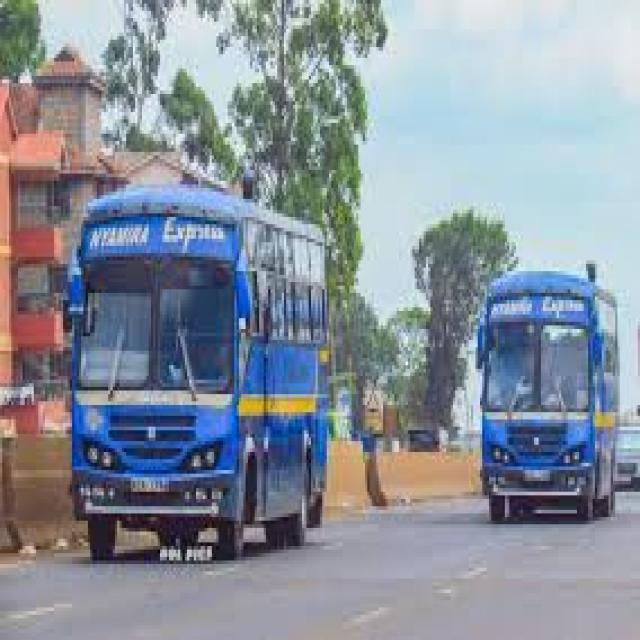bus: (55, 148, 344, 573), (468, 205, 624, 554)
